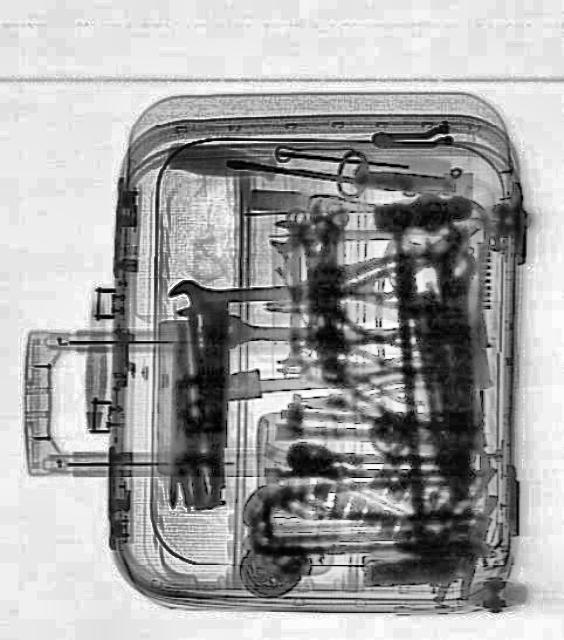Wrench: (166, 273, 290, 315), (269, 218, 365, 255)
